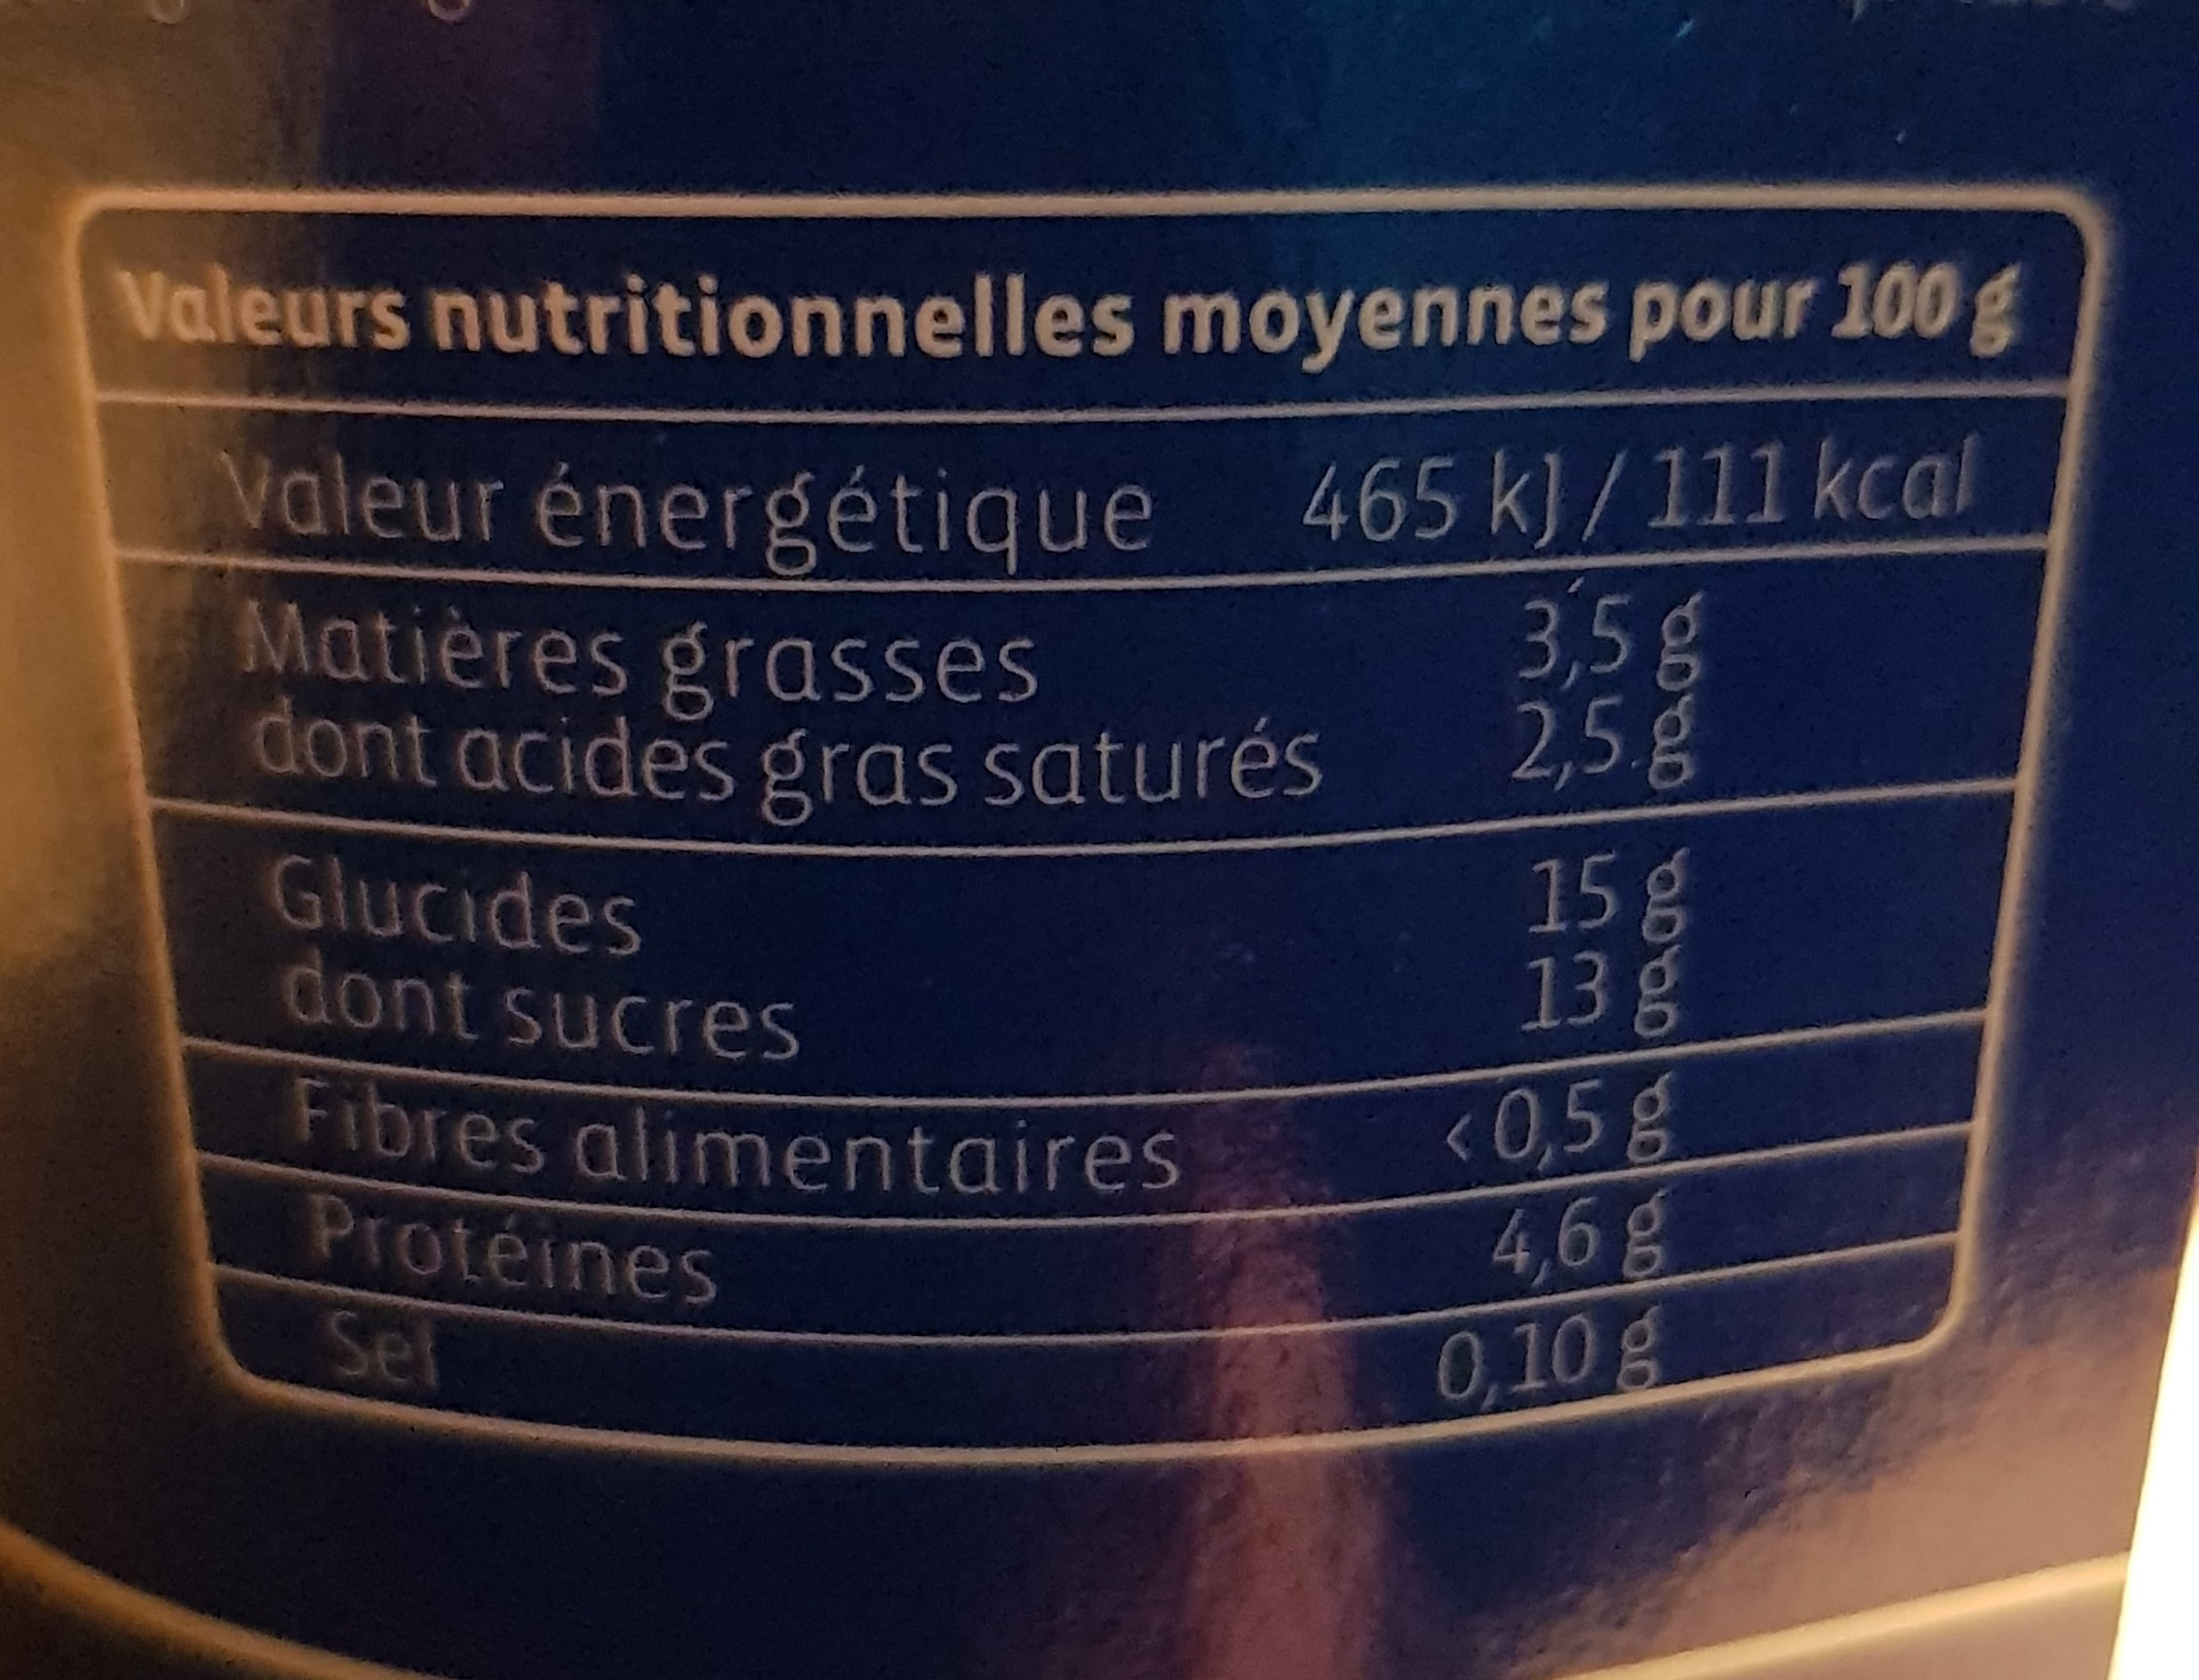column: (217, 596, 1327, 1398), (1431, 595, 1700, 1398)
table: (64, 184, 2088, 1479)
